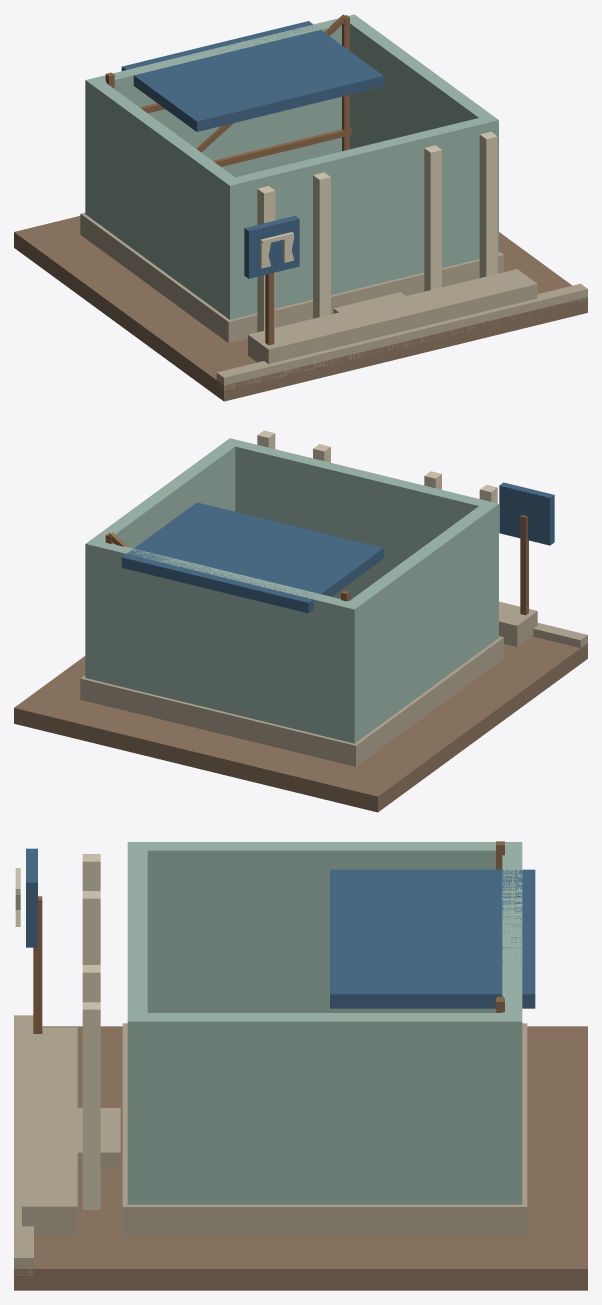
Rendered from theatre-seabreeze-half-built.glb.
3 renders of one model, top to bottom at view 1: azimuth 30°, elevation 25°; view 2: azimuth 150°, elevation 25°; view 3: azimuth 270°, elevation 25°, orthographic. The views are drawn at different scales.
Visible parts, largest first — view 1: theatre; view 2: theatre; view 3: theatre.
Part boxes in pixels (x1,y1,x2,y2): theatre: [14, 14, 587, 401]; theatre: [14, 430, 587, 812]; theatre: [14, 841, 587, 1290].
Size of the model in its own units: 2.88 by 1.38 by 2.88.
